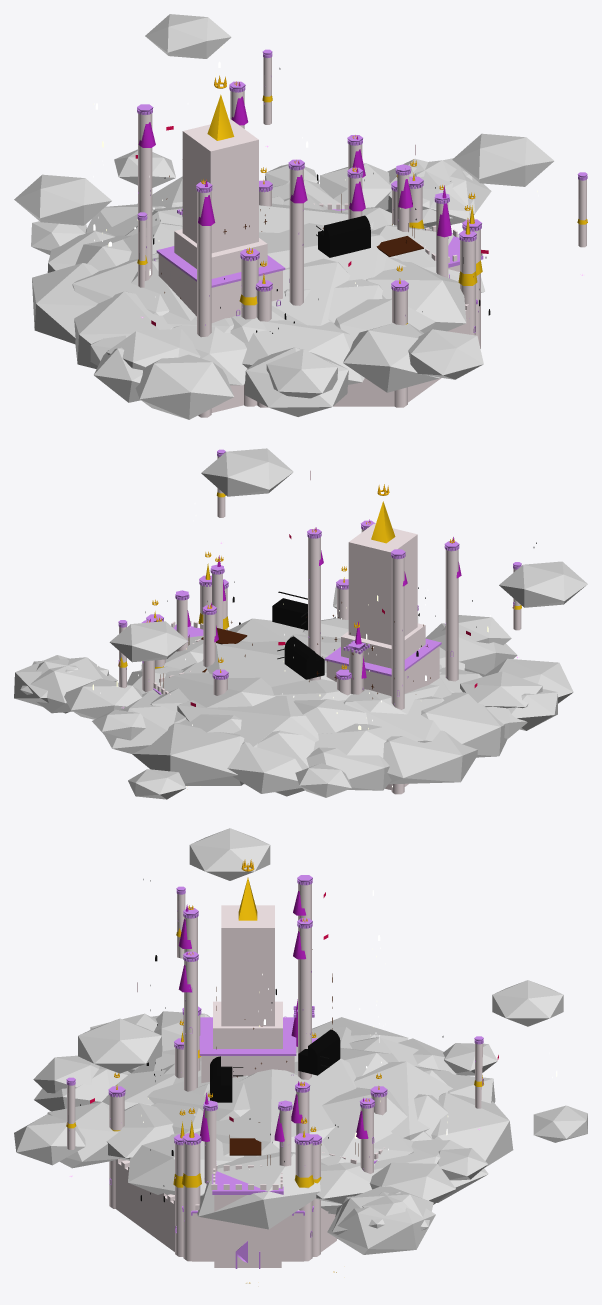
File: fairytale_castle_med_compressed (4).glb
3 views of the same model, one above another, from view 1: azimuth 30°, elevation 25°; view 2: azimuth 150°, elevation 25°; view 3: azimuth 270°, elevation 25° (orthographic). The views are drawn at different scales.
Size of the model in its own units: 5744676 by 3563280 by 5529063.
